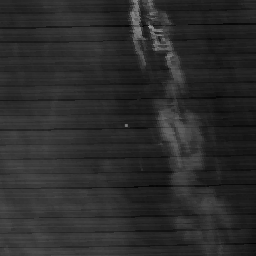Target: (122, 123, 129, 128)
